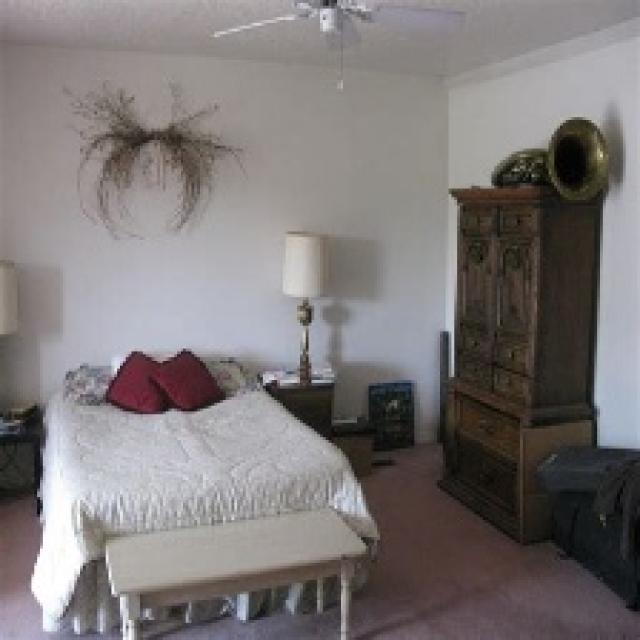Bed: (29, 352, 380, 637)
